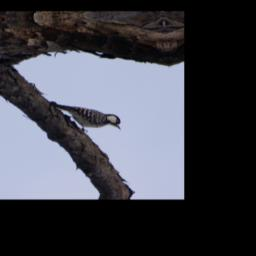Woodpecker: (45, 95, 126, 137)
